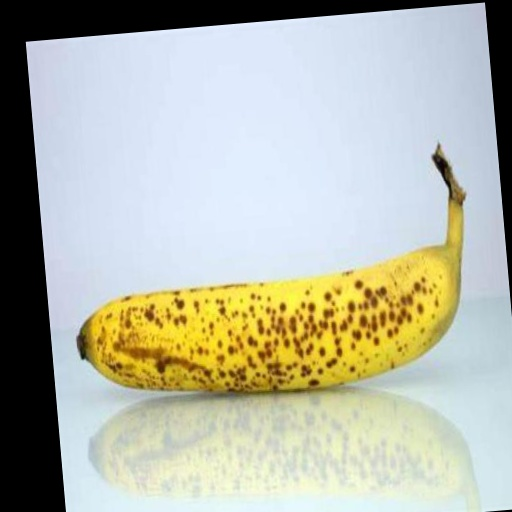fruit: (76, 146, 464, 391), (89, 388, 478, 510)
